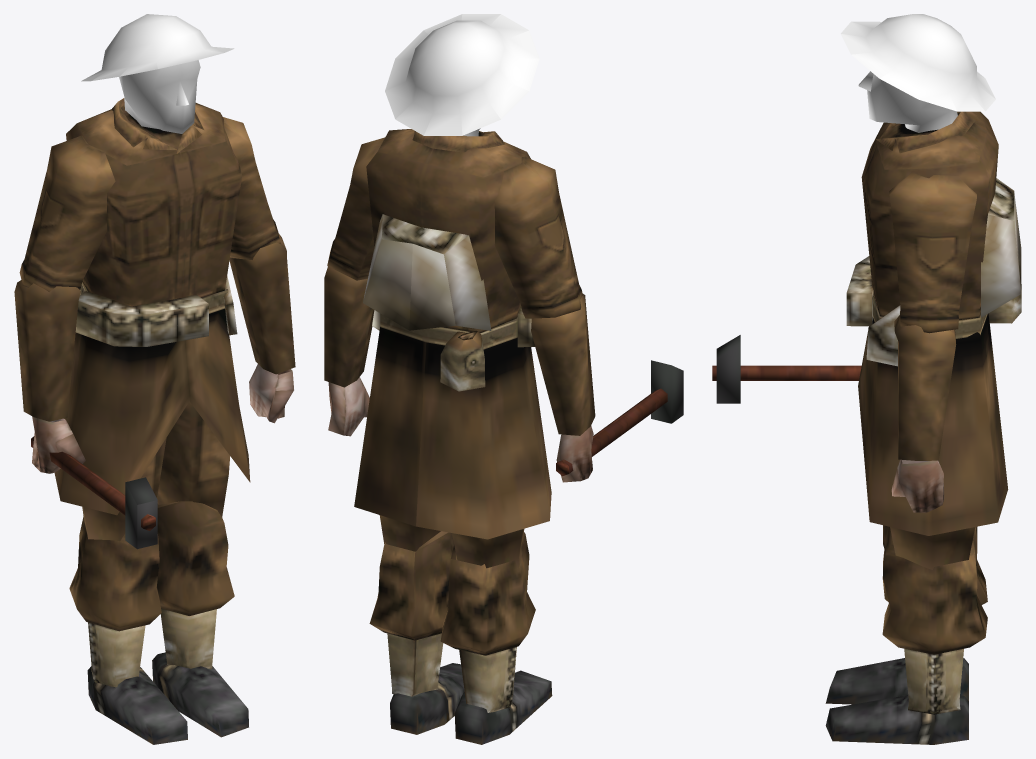
The model's file is breng.dae.
The picture shows the model from 3 angles, left to right: view 1: azimuth 30°, elevation 25°; view 2: azimuth 150°, elevation 25°; view 3: azimuth 270°, elevation 25°; orthographic projection.
Parts seen in each view (by area): view 1: torso, lloleg, rloleg, ruparm, head, rloarm, lloarm, lupleg, lfoot, rfoot, luparm, hammer (+3 smaller); view 2: torso, head, rloleg, ruparm, lloleg, rloarm, lloarm, luparm, rfoot, hammer, lfoot, rupleg (+3 smaller); view 3: torso, head, lloleg, luparm, lloarm, lfoot, hammer, rfoot, lupleg, lhand, rloleg.
Part boxes in pixels (bbox=[...]): torso: bbox=[54, 98, 250, 515]; lloleg: bbox=[157, 501, 234, 669]; rloleg: bbox=[69, 516, 161, 687]; ruparm: bbox=[19, 135, 115, 291]; head: bbox=[81, 14, 234, 133]; rloarm: bbox=[14, 280, 80, 421]; lloarm: bbox=[229, 233, 295, 374]; lupleg: bbox=[157, 401, 230, 517]; lfoot: bbox=[152, 652, 248, 737]; rfoot: bbox=[87, 666, 187, 744]; luparm: bbox=[223, 117, 280, 259]; hammer: bbox=[31, 436, 157, 549]; torso: bbox=[354, 129, 551, 539]; head: bbox=[385, 14, 539, 136]; rloleg: bbox=[440, 532, 535, 712]; ruparm: bbox=[494, 157, 582, 318]; lloleg: bbox=[369, 531, 453, 696]; rloarm: bbox=[531, 294, 595, 435]; lloarm: bbox=[324, 266, 374, 387]; luparm: bbox=[327, 137, 384, 280]; rfoot: bbox=[454, 670, 552, 744]; hammer: bbox=[556, 360, 683, 476]; lfoot: bbox=[390, 663, 464, 734]; rupleg: bbox=[452, 529, 524, 568]; torso: bbox=[846, 111, 1021, 535]; head: bbox=[840, 14, 995, 132]; lloleg: bbox=[882, 526, 987, 714]; luparm: bbox=[889, 172, 976, 333]; lloarm: bbox=[894, 314, 956, 460]; lfoot: bbox=[825, 695, 968, 744]; hammer: bbox=[712, 335, 861, 403]; rfoot: bbox=[825, 658, 968, 704]; lupleg: bbox=[890, 527, 975, 569]; lhand: bbox=[891, 459, 944, 512]; rloleg: bbox=[882, 525, 987, 604].
Bounding box in the file's own units: 8.7 × 8.99 × 22.39.
Materials: 3 (1 with a texture image).
